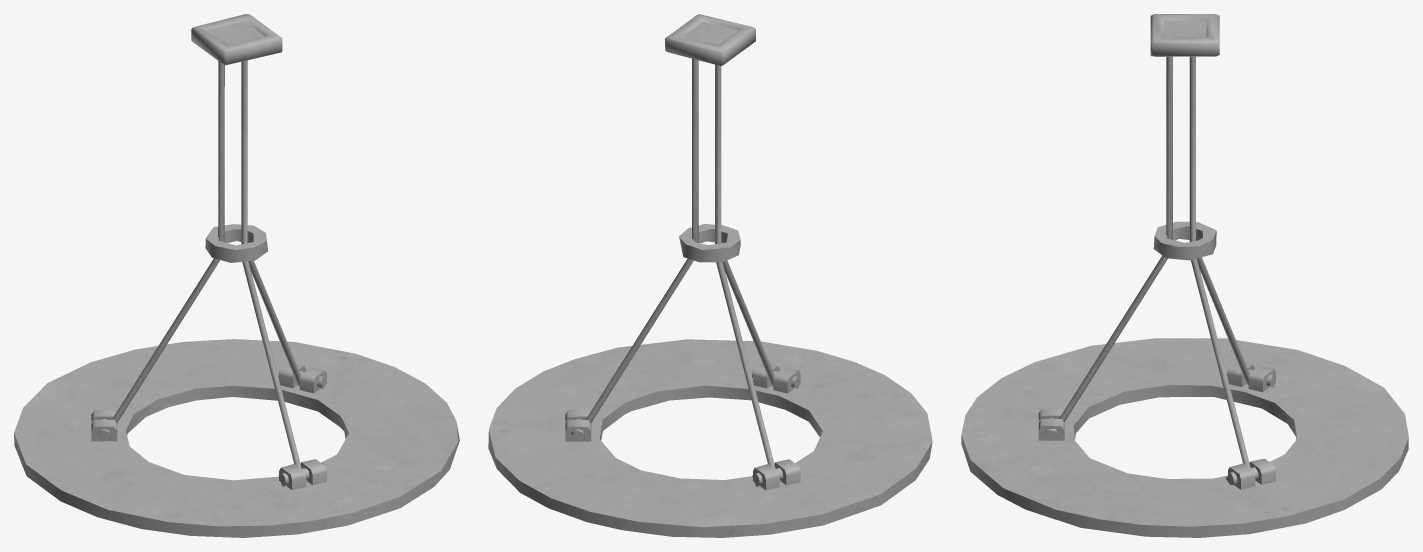
The model's file is SM_Roof_Light1.fbx.
3 views of the same model, side by side, from view 1: azimuth 30°, elevation 25°; view 2: azimuth 150°, elevation 25°; view 3: azimuth 270°, elevation 25° (orthographic).
Parts seen in each view (by area): view 1: SM_Roof_Light1_LOD0; view 2: SM_Roof_Light1_LOD0; view 3: SM_Roof_Light1_LOD0.
Boxes of the visible parts, x1,y1,x2,y2 form: SM_Roof_Light1_LOD0: (14, 14, 459, 537); SM_Roof_Light1_LOD0: (488, 14, 932, 537); SM_Roof_Light1_LOD0: (961, 14, 1408, 537).
Bounding box in the file's own units: 194 × 195 × 200.
2 materials, 1 textured.
